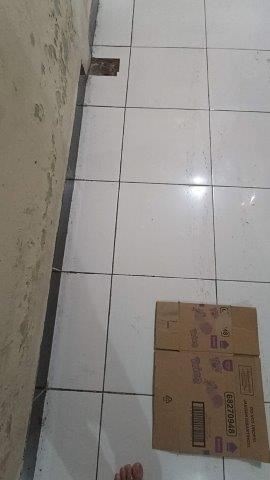kardus: (155, 303, 270, 461)
